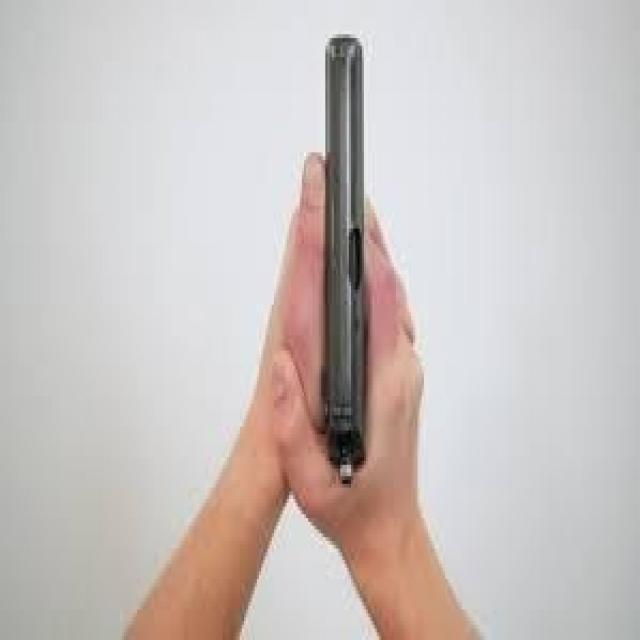gun: (320, 42, 366, 478)
